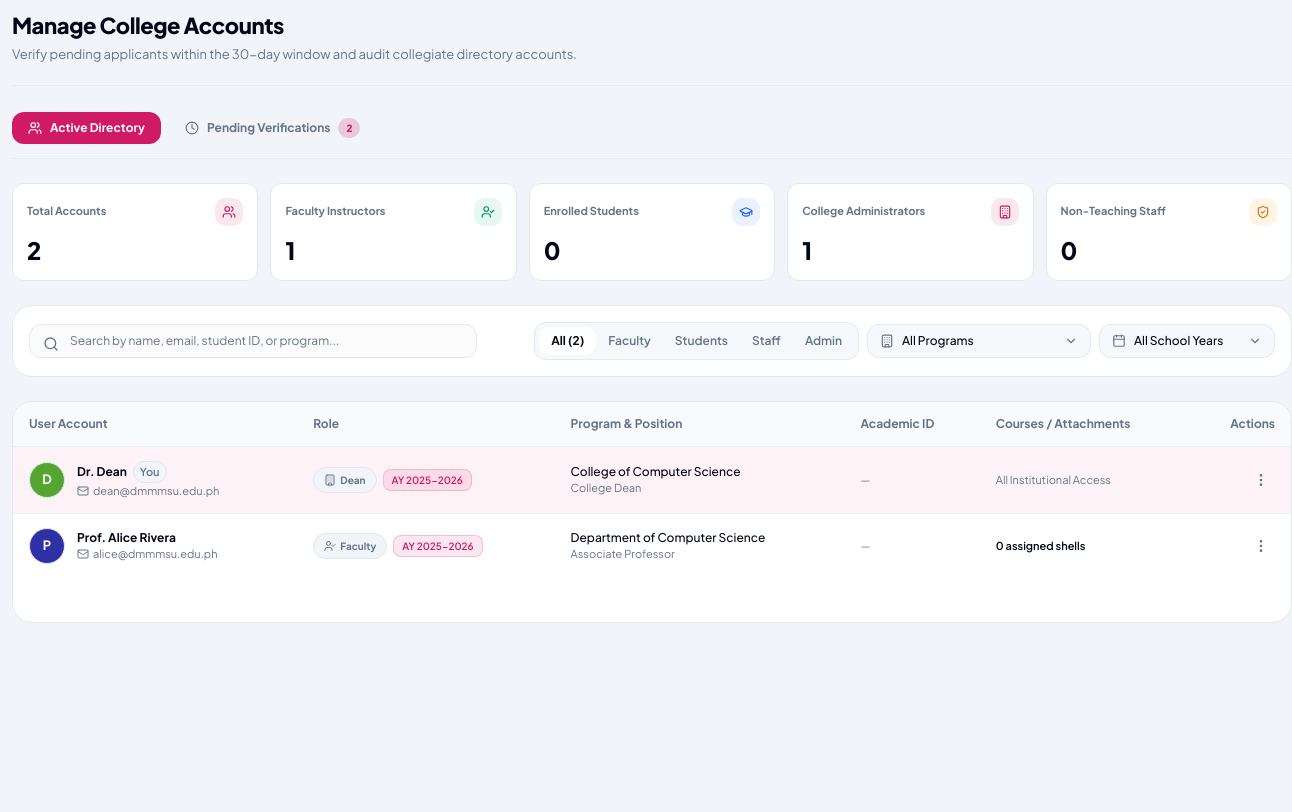
Test: ManageAccountsPage RBAC & Verification Queue › 2b. lists unverified applicants in the queue, flagged and not approvable
The image size is (1292, 812).
Click the tab "Pending Verifications 2".
click(273, 128)  # box [169, 110, 376, 146]
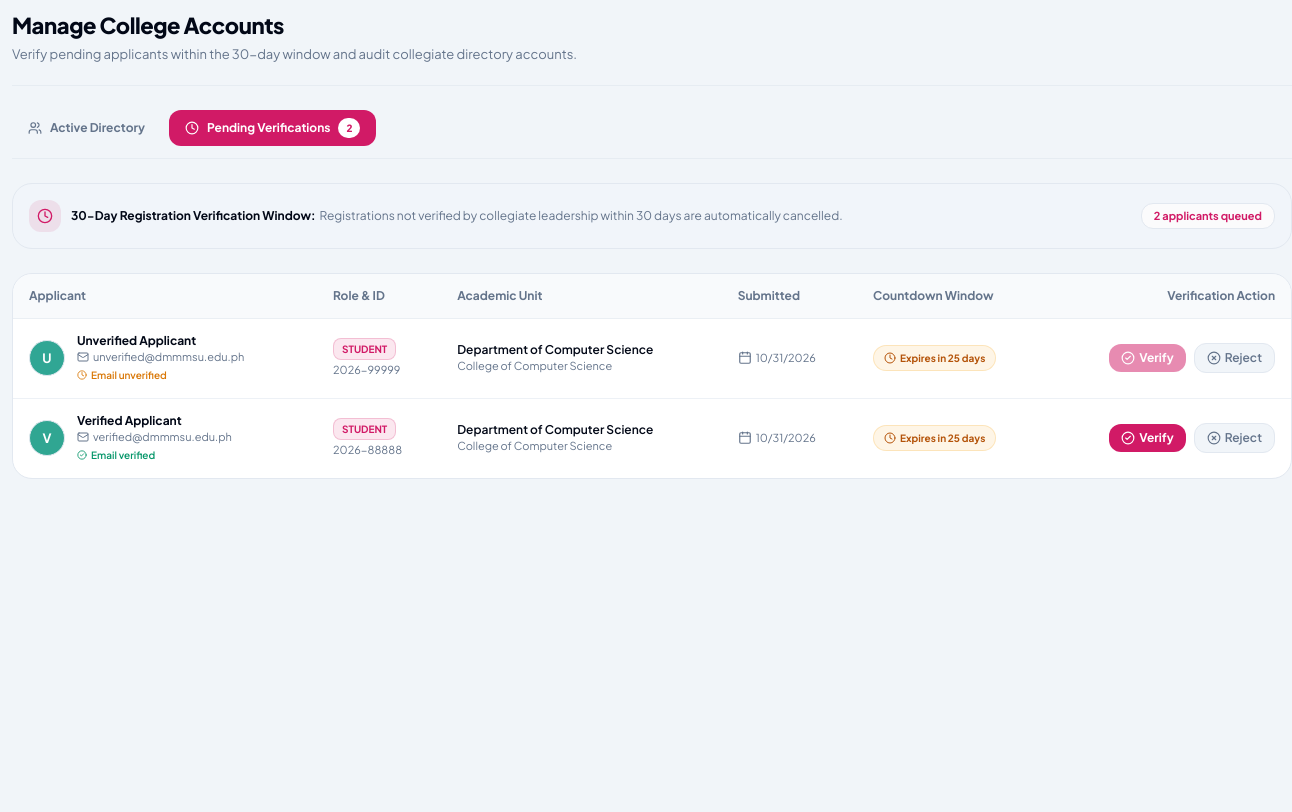
Expected: the text "Verified Applicant" is shown, [77, 413, 182, 428]
Expected: the text "verified@dmmmsu.edu.ph" is shown, [93, 429, 232, 445]
Expected: the text "Unverified Applicant" is shown, [77, 333, 196, 348]
